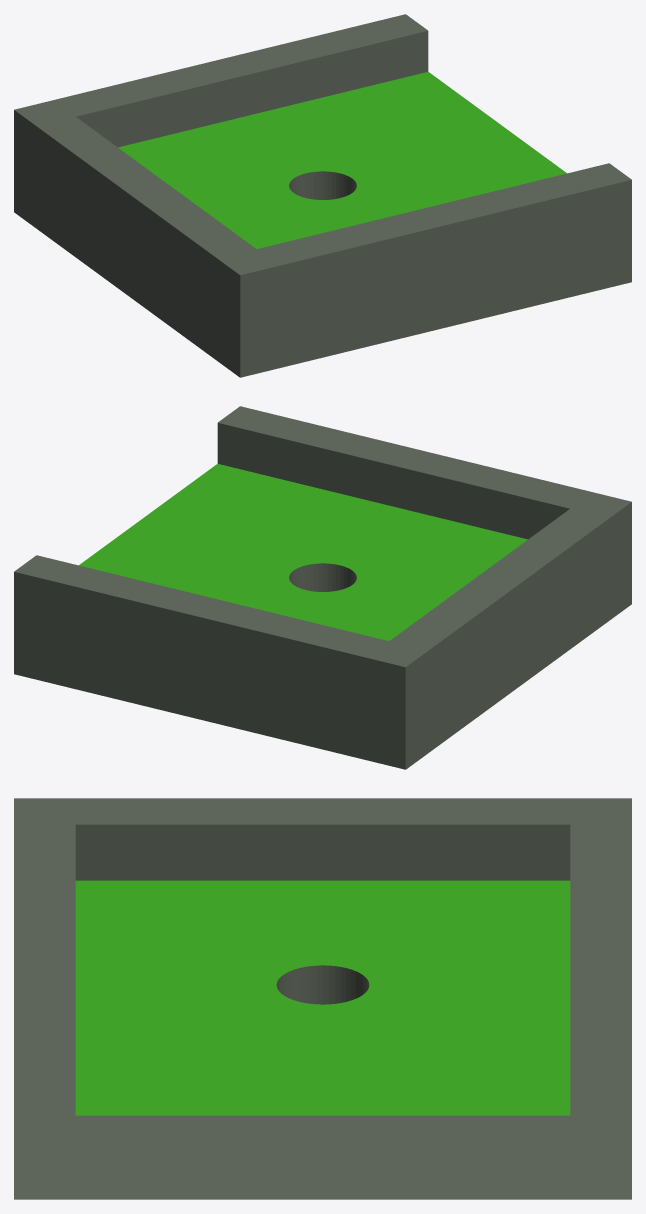
File: HoleSquareWalled.fbx
3 renders of one model, top to bottom at view 1: azimuth 30°, elevation 25°; view 2: azimuth 150°, elevation 25°; view 3: azimuth 270°, elevation 25°, orthographic. The views are drawn at different scales.
Parts seen in each view (by area): view 1: HoleSquareWalled; view 2: HoleSquareWalled; view 3: HoleSquareWalled.
Boxes of the visible parts, x1,y1,x2,y2 form: HoleSquareWalled: (14,14,631,377); HoleSquareWalled: (14,406,631,769); HoleSquareWalled: (14,798,631,1199).
Size of the model in its own units: 200 by 50 by 200.
